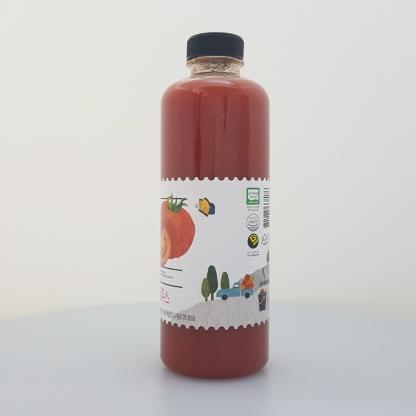-------------------900ML: (159, 32, 270, 379)
